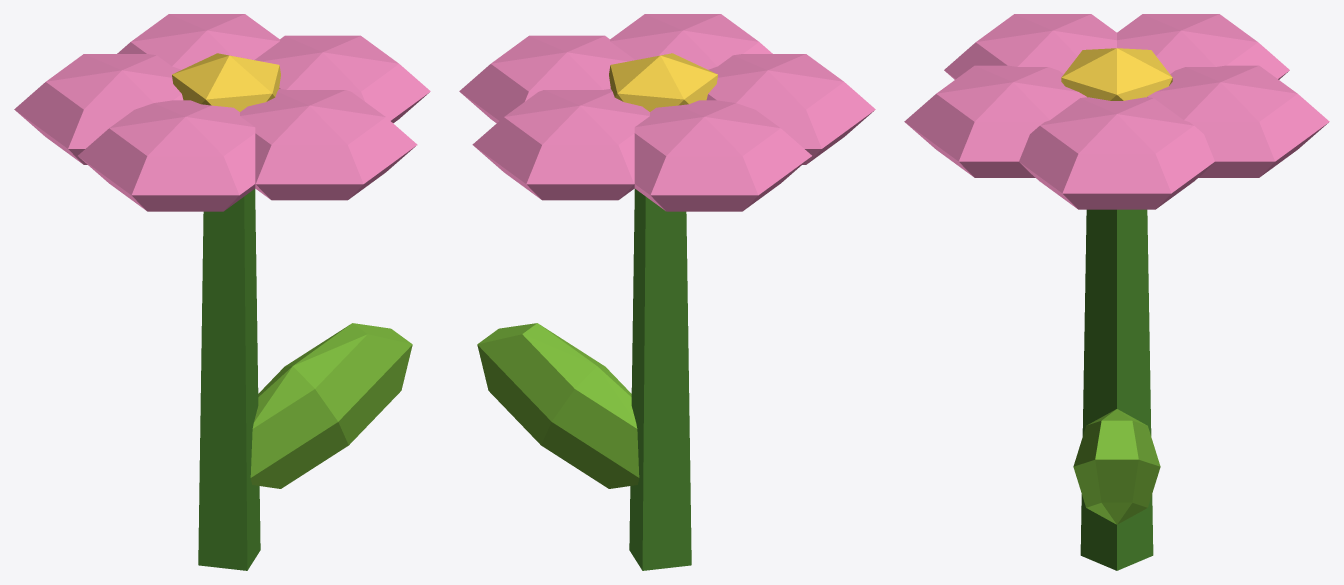
File: flower_pink.glb
3 renders of one model, left to right at view 1: azimuth 30°, elevation 25°; view 2: azimuth 150°, elevation 25°; view 3: azimuth 270°, elevation 25°, orthographic.
Parts seen in each view (by area): view 1: flower_pink; view 2: flower_pink; view 3: flower_pink.
Part boxes in pixels (x1,y1,x2,y2): flower_pink: (14,14,430,570); flower_pink: (459,14,875,570); flower_pink: (904,14,1329,570).
Size of the model in its own units: 0.3984 by 0.5775 by 0.439.
